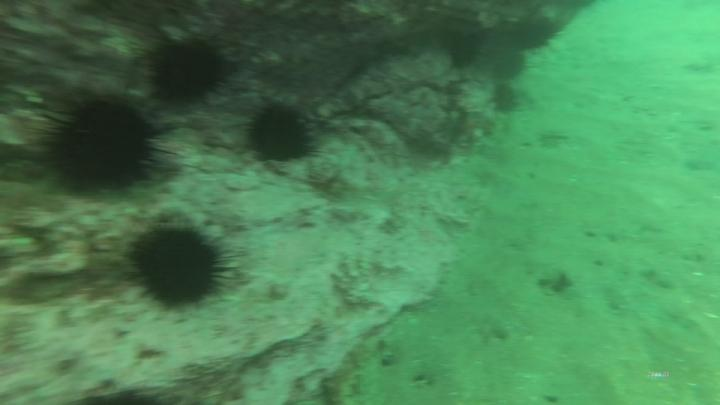echinus: (33, 89, 186, 203), (119, 210, 246, 321), (146, 35, 240, 113), (245, 94, 324, 175)
